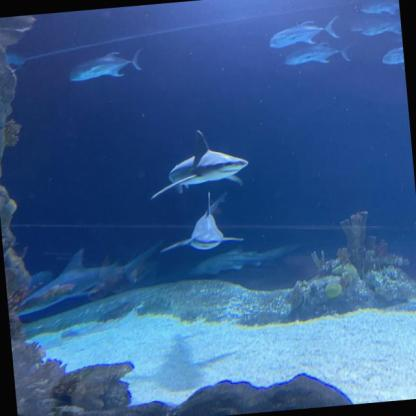fish: (65, 46, 141, 84), (266, 15, 336, 48), (280, 41, 350, 66), (346, 14, 401, 32), (359, 16, 401, 38), (353, 0, 400, 16), (376, 48, 404, 70)
shark: (8, 247, 142, 318), (153, 132, 253, 196), (174, 199, 247, 253), (186, 246, 288, 277)
